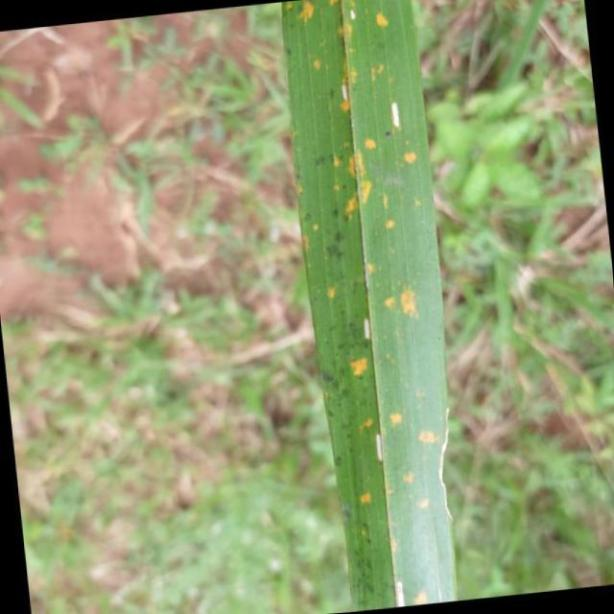Kalium: (279, 1, 460, 614)
